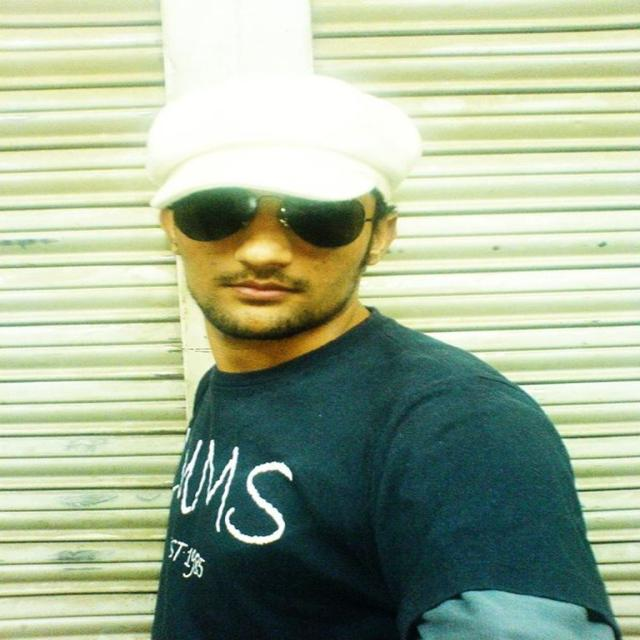Hat: (147, 72, 425, 207)
